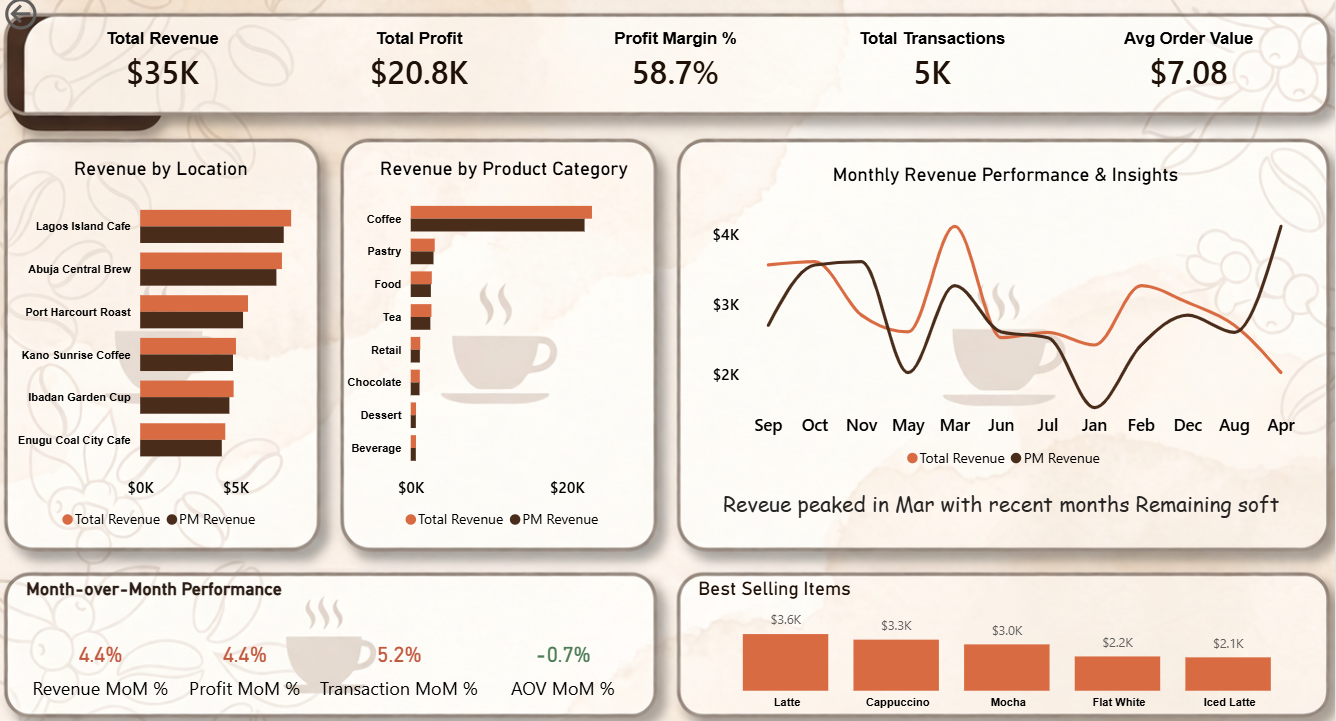

The dashboard page shown, as its layout file describes it:
{"tool":"powerbi","page":{"name":"Page 1","canvas":[1280,720],"ordinal":0},"visuals":[{"type":"actionButton","box":[0,0,100,40],"z":0},{"type":"cardVisual","fields":{"Data":["DAX Formula.Total Revenue","DAX Formula.Total Profit","DAX Formula.Profit Margin %","DAX Formula.Total Transactions","DAX Formula.Avg Order Value"]},"box":[20.1,20.1,1259.8,89.2],"z":1000},{"type":"card","fields":{"Values":["DAX Formula.Revenue MoM %"]},"box":[20.5,607.2,151.2,77.2],"z":2000},{"type":"card","fields":{"Values":["DAX Formula.Profit MoM %"]},"box":[171.7,607.2,126,77.2],"z":3000},{"type":"card","fields":{"Values":["DAX Formula.Transaction MoM %"]},"box":[297.7,608,168.5,74],"z":4000},{"type":"card","fields":{"Values":["DAX Formula.AOV MoM %"]},"box":[466.2,608,146.5,74],"z":5000},{"type":"lineChart","title":"Monthly Revenue Performance & Insights","fields":{"Category":["Calendar.Month"],"Y":["DAX Formula.Total Revenue","DAX Formula.PM Revenue"]},"box":[677.3,163.8,573.3,300.8],"z":6000},{"type":"card","fields":{"Values":["DAX Formula.Insight LineChart"]},"box":[650.5,458.3,619,64.6],"z":7000},{"type":"clusteredBarChart","title":"Revenue by Location","fields":{"Category":["DimStore3.StoreName"],"Y":["DAX Formula.Total Revenue","DAX Formula.PM Revenue"]},"box":[9.5,157.5,288.2,365.4],"z":8000},{"type":"clusteredBarChart","title":"Revenue by Product Category","fields":{"Category":["DimProduct2.Category"],"Y":["DAX Formula.Total Revenue","DAX Formula.PM Revenue"]},"box":[326,157.5,313.4,365.4],"z":9000},{"type":"textbox","title":"Month-over-Month Performance","box":[20.1,560.9,591.1,53.2],"z":10000},{"type":"clusteredColumnChart","title":"Best Selling Items","fields":{"Category":["DimProduct2.ProductName"],"Y":["DAX Formula.Total Revenue"]},"box":[664.4,560.9,604,133.7],"z":11000}]}

Visuals, with their boxes on the page's 1280x720 design canvas (x1, y1, x2, y2). These are canvas units, not pixel positions in the 1336x721 screenshot, which may show the page scaled, cropped or inside an application window:
actionButton: <box>0,0,100,40</box>
cardVisual - DAX Formula.Total Revenue x DAX Formula.Total Profit: <box>20,20,1280,109</box>
card - DAX Formula.Revenue MoM %: <box>20,607,172,684</box>
card - DAX Formula.Profit MoM %: <box>172,607,298,684</box>
card - DAX Formula.Transaction MoM %: <box>298,608,466,682</box>
card - DAX Formula.AOV MoM %: <box>466,608,613,682</box>
"Monthly Revenue Performance & Insights" lineChart: <box>677,164,1251,465</box>
card - DAX Formula.Insight LineChart: <box>650,458,1270,523</box>
"Revenue by Location" clusteredBarChart: <box>10,158,298,523</box>
"Revenue by Product Category" clusteredBarChart: <box>326,158,639,523</box>
"Month-over-Month Performance" textbox: <box>20,561,611,614</box>
"Best Selling Items" clusteredColumnChart: <box>664,561,1268,695</box>
